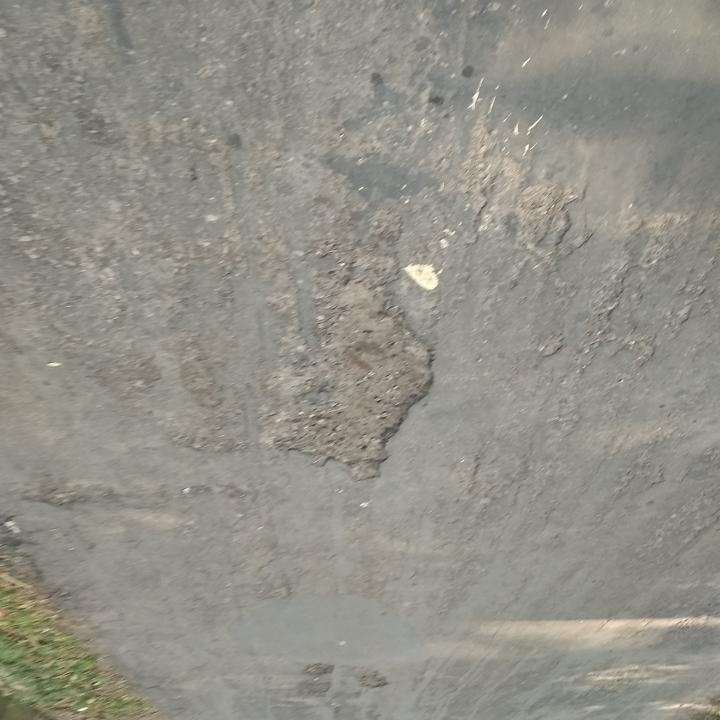pothole: (264, 262, 440, 477), (352, 663, 388, 692), (294, 679, 334, 699), (299, 661, 336, 677)
